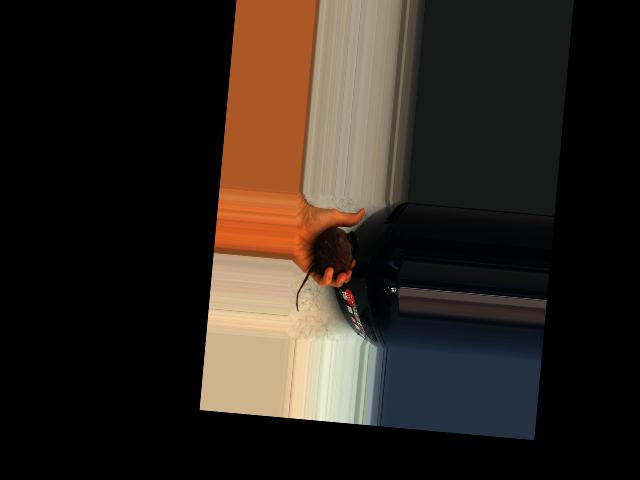beet: (294, 225, 359, 316)
